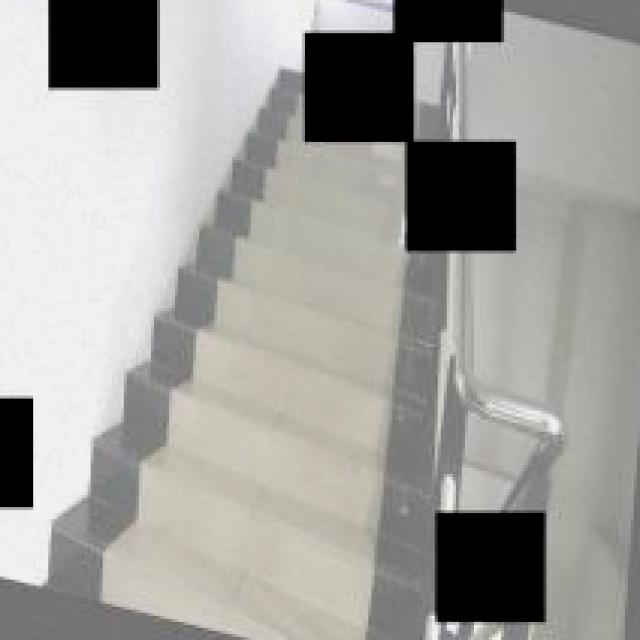upstair: (158, 267, 427, 638)
